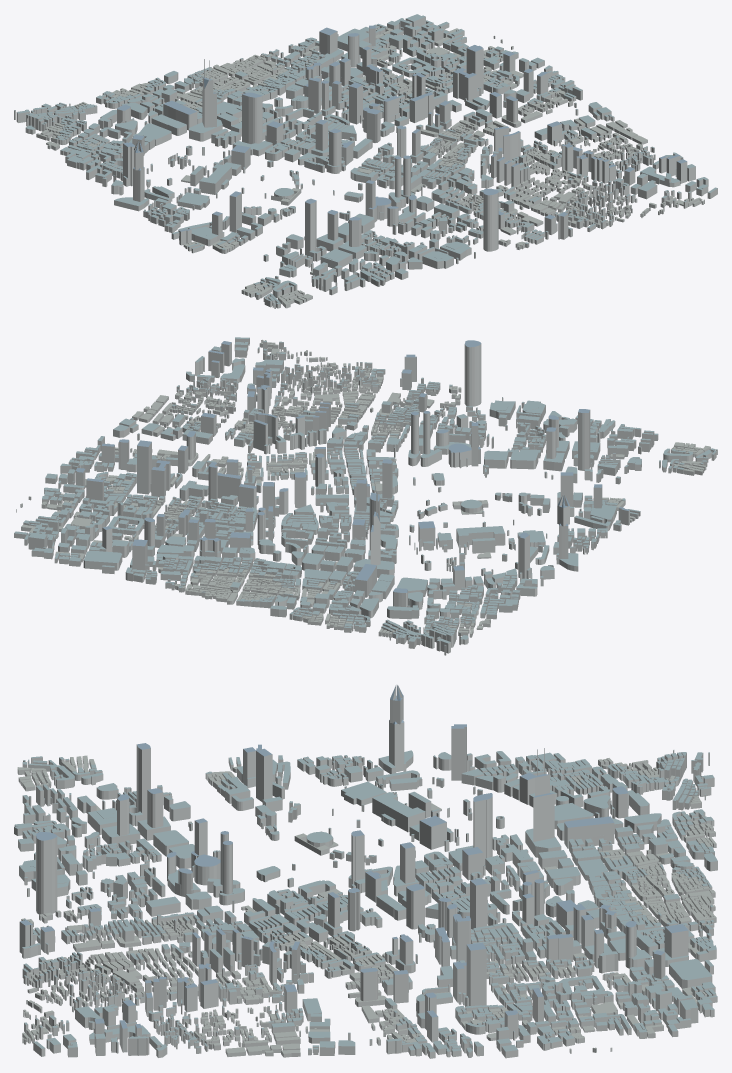
Rendered from far.glb.
3 renders of one model, top to bottom at view 1: azimuth 30°, elevation 25°; view 2: azimuth 150°, elevation 25°; view 3: azimuth 270°, elevation 25°, orthographic. The views are drawn at different scales.
Size of the model in its own units: 2166 by 333 by 2134.
